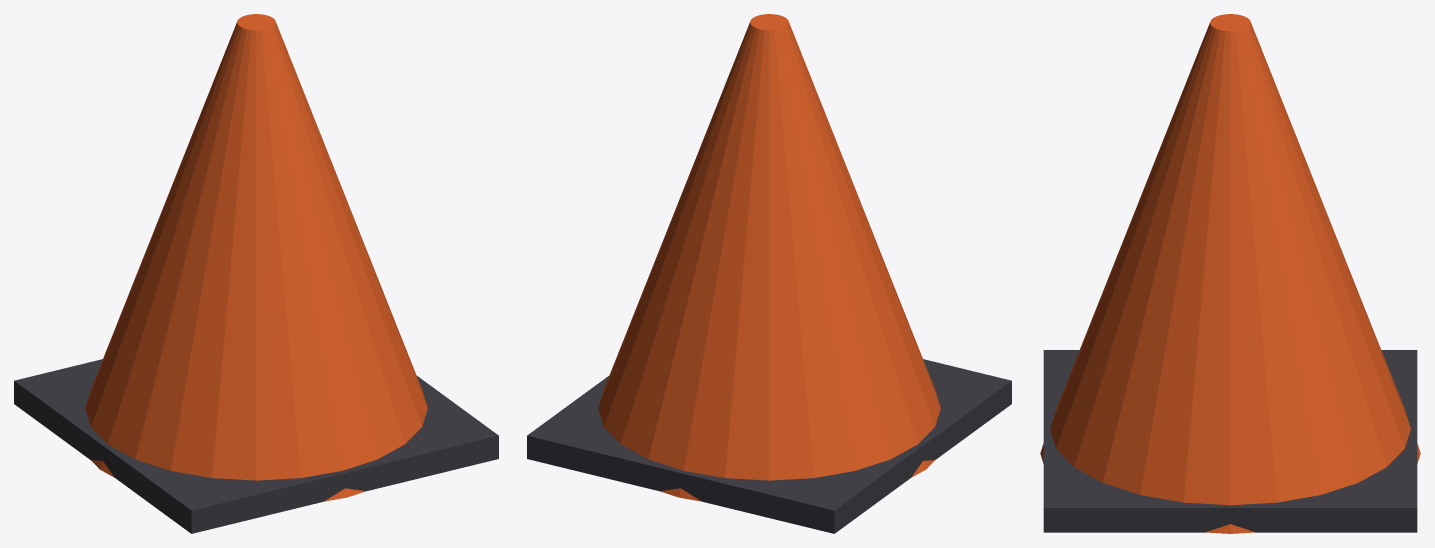
3 views of the same model, side by side, from view 1: azimuth 30°, elevation 25°; view 2: azimuth 150°, elevation 25°; view 3: azimuth 270°, elevation 25° (orthographic). The views are drawn at different scales.
Parts seen in each view (by area): view 1: cone; view 2: cone; view 3: cone.
Part boxes in pixels (bbox=[...]): cone: bbox=[14, 14, 498, 533]; cone: bbox=[527, 14, 1011, 533]; cone: bbox=[1040, 14, 1420, 533].
Size of the model in its own units: 0.56 by 0.7 by 0.56.
